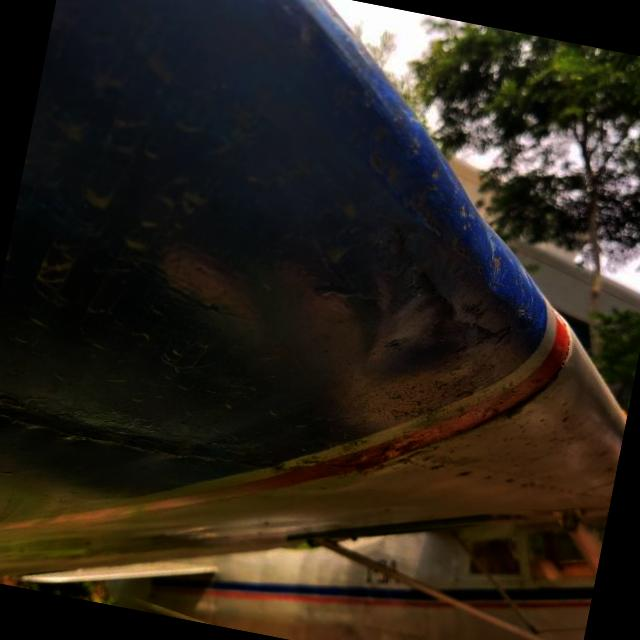dent: (262, 180, 508, 425)
